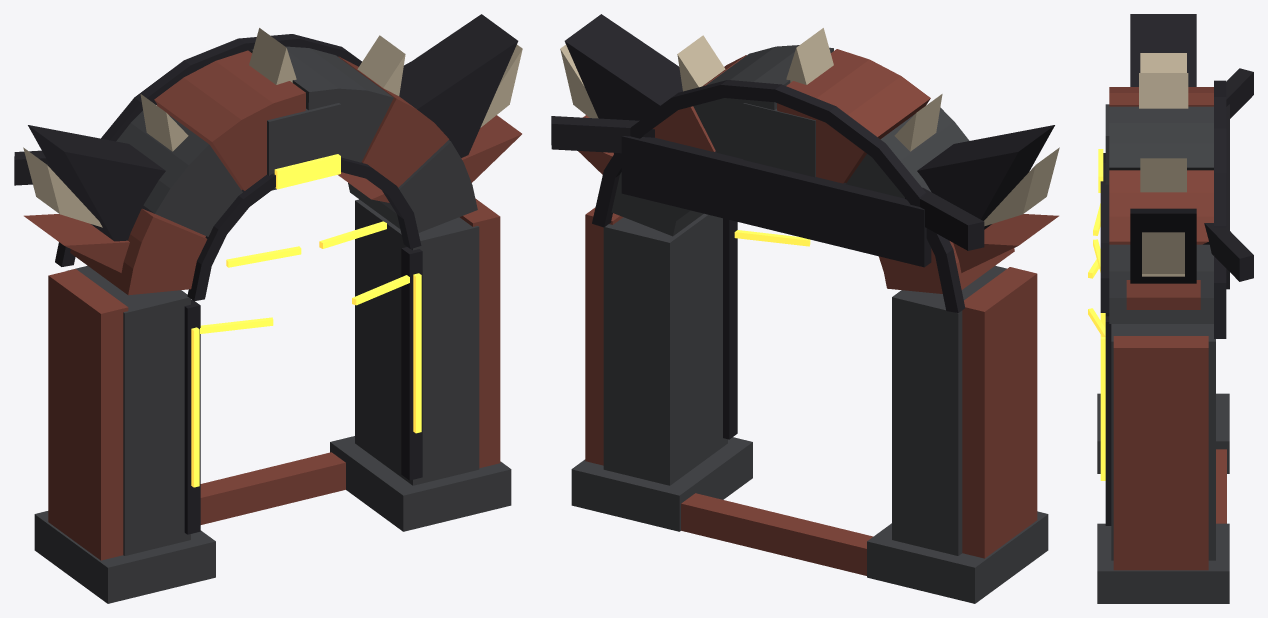
Rendered from SM_INF_HornWingArch_A01.fbx.
The picture shows the model from 3 angles, left to right: view 1: azimuth 30°, elevation 25°; view 2: azimuth 150°, elevation 25°; view 3: azimuth 270°, elevation 25°; orthographic projection. The views are drawn at different scales.
Visible parts, largest first — view 1: Pier_Right_CultStone_InnerSlab, Pier_Left_ScorchedOuterRib, Pier_Left_CultStone_InnerSlab, ArchBlock_04_Scorched_HornThroat, Wing_Right_ObsidianIron_UpperBlade, Base_Right_CultStone_ClawedPlinth, Wing_Left_ObsidianIron_UpperBlade, Base_Left_CultStone_ClawedPlinth, ArchBlock_05_Stone_HornThroat, Base_Back_ScorchedBridgeStone, ArchBlock_03_Stone_HornThroat, Pier_Right_ScorchedOuterRib (+20 smaller); view 2: Pier_Right_CultStone_InnerSlab, Pier_Left_ScorchedOuterRib, Crown_BackBrace_ObsidianIron, Pier_Left_CultStone_InnerSlab, ArchOuter_ObsidianIron_BackBand, ArchBlock_04_Scorched_HornThroat, Base_Right_CultStone_ClawedPlinth, Base_Left_CultStone_ClawedPlinth, Wing_Right_ObsidianIron_UpperBlade, Base_Back_ScorchedBridgeStone, Wing_Left_ObsidianIron_UpperBlade, Pier_Right_ScorchedOuterRib (+16 smaller); view 3: Pier_Right_ScorchedOuterRib, ArchBlock_03_Stone_HornThroat, Base_Right_CultStone_ClawedPlinth, ArchBlock_02_Scorched_HornThroat, ArchBlock_01_Stone_HornThroat, Pier_Right_CultStone_InnerSlab, Wing_Left_ObsidianIron_UpperBlade, Wing_Right_ObsidianIron_UpperBlade, ArchOuter_ObsidianIron_BackBand, Wing_Right_ScorchedStone_LowerBlade, WingTip_Right_BoneHorn_Talon, Crown_Center_BoneHorn_Spear (+12 smaller).
Boxes of the visible parts, <box> form: Pier_Right_CultStone_InnerSlab: <box>355,199,479,485</box>; Pier_Left_ScorchedOuterRib: <box>48,269,128,560</box>; Pier_Left_CultStone_InnerSlab: <box>67,265,190,555</box>; ArchBlock_04_Scorched_HornThroat: <box>154,50,305,190</box>; Wing_Right_ObsidianIron_UpperBlade: <box>399,14,518,157</box>; Base_Right_CultStone_ClawedPlinth: <box>330,436,511,531</box>; Wing_Left_ObsidianIron_UpperBlade: <box>28,125,165,241</box>; Base_Left_CultStone_ClawedPlinth: <box>34,511,215,603</box>; ArchBlock_05_Stone_HornThroat: <box>116,111,242,236</box>; Base_Back_ScorchedBridgeStone: <box>200,452,345,524</box>; ArchBlock_03_Stone_HornThroat: <box>251,46,393,162</box>; Pier_Right_ScorchedOuterRib: <box>459,198,500,468</box>; Pier_Right_CultStone_InnerSlab: <box>603,213,727,485</box>; Pier_Left_ScorchedOuterRib: <box>962,267,1037,558</box>; Crown_BackBrace_ObsidianIron: <box>621,136,931,267</box>; Pier_Left_CultStone_InnerSlab: <box>892,265,1006,555</box>; ArchOuter_ObsidianIron_BackBand: <box>592,80,965,312</box>; ArchBlock_04_Scorched_HornThroat: <box>777,49,930,183</box>; Base_Right_CultStone_ClawedPlinth: <box>571,437,752,531</box>; Base_Left_CultStone_ClawedPlinth: <box>867,511,1048,603</box>; Wing_Right_ObsidianIron_UpperBlade: <box>564,14,682,153</box>; Base_Back_ScorchedBridgeStone: <box>681,493,873,575</box>; Wing_Left_ObsidianIron_UpperBlade: <box>917,125,1054,229</box>; Pier_Right_ScorchedOuterRib: <box>585,207,623,465</box>; Pier_Right_ScorchedOuterRib: <box>1113,336,1208,570</box>; ArchBlock_03_Stone_HornThroat: <box>1109,106,1213,170</box>; Base_Right_CultStone_ClawedPlinth: <box>1097,523,1229,603</box>; ArchBlock_02_Scorched_HornThroat: <box>1109,170,1213,244</box>; ArchBlock_01_Stone_HornThroat: <box>1109,244,1213,323</box>; Pier_Right_CultStone_InnerSlab: <box>1111,324,1215,560</box>; Wing_Left_ObsidianIron_UpperBlade: <box>1130,14,1196,86</box>; Wing_Right_ObsidianIron_UpperBlade: <box>1130,208,1196,283</box>; ArchOuter_ObsidianIron_BackBand: <box>1214,80,1226,338</box>; Wing_Right_ScorchedStone_LowerBlade: <box>1126,280,1200,309</box>; WingTip_Right_BoneHorn_Talon: <box>1142,232,1184,276</box>; Crown_Center_BoneHorn_Spear: <box>1139,73,1188,108</box>.
Size of what is drawn, in the model's own units: 22087 by 66000 by 65000.
